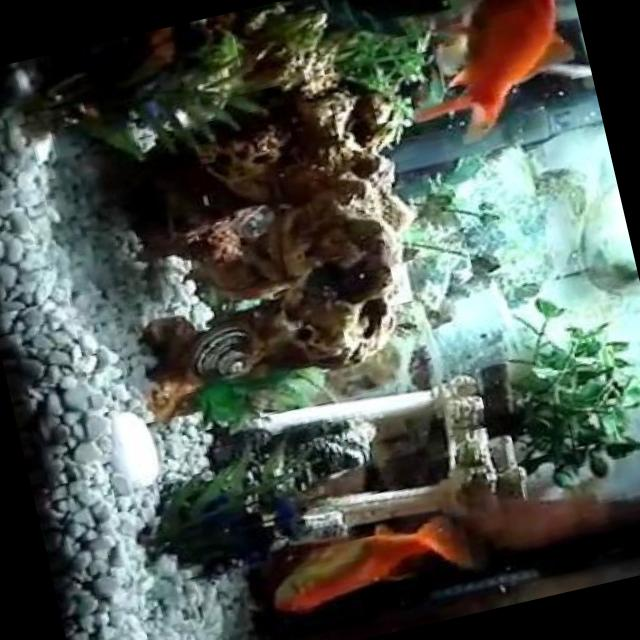GoldFish: (386, 0, 593, 156), (256, 494, 486, 626)
